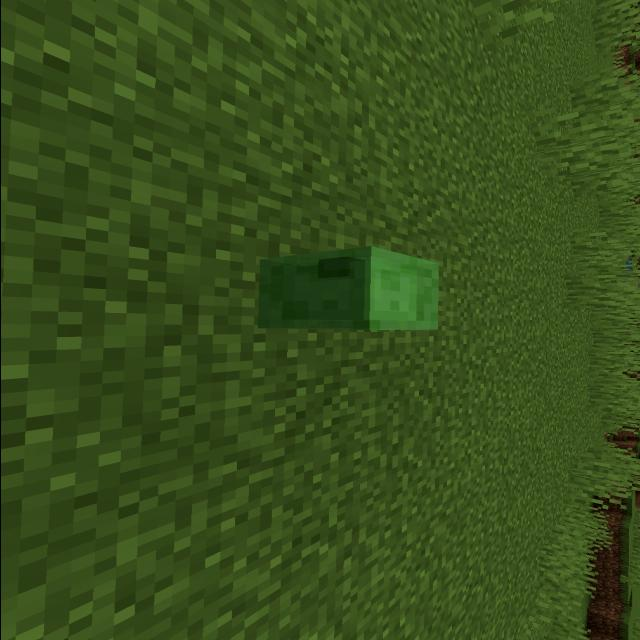Slime: (236, 242, 455, 342)
